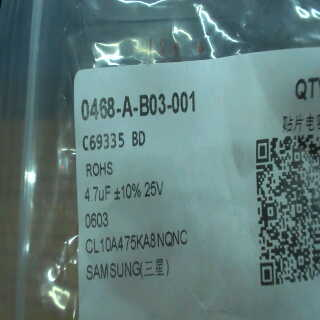4.7uF: (81, 181, 113, 208)
